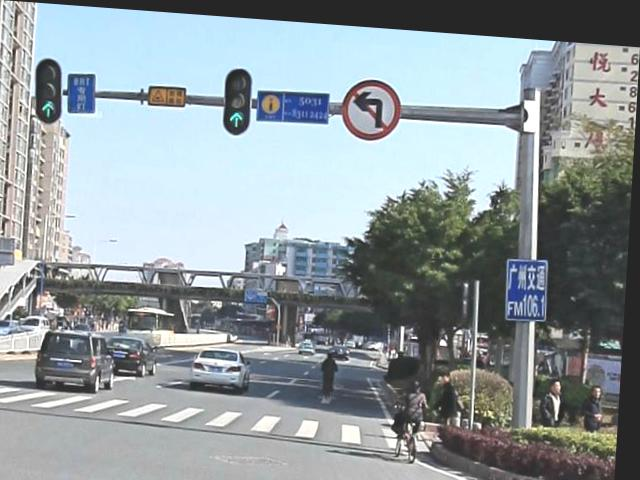not_turn_left: (339, 67, 402, 139)
